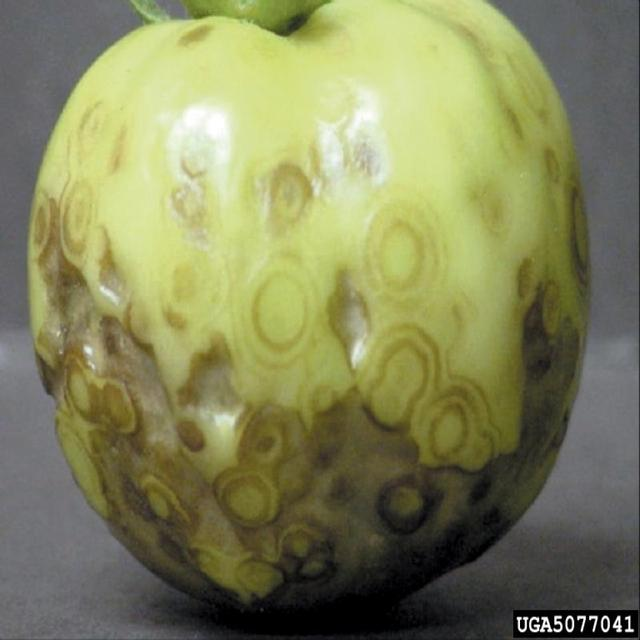Spotted wilt Virus Fruit: (125, 0, 318, 11)
